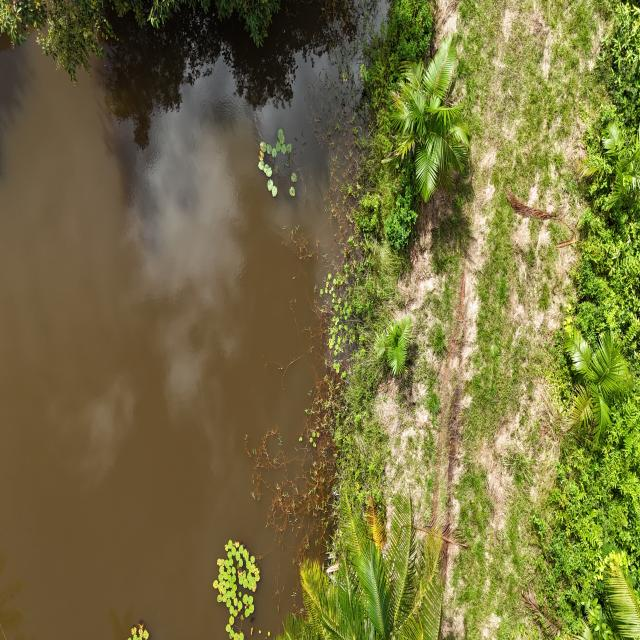vegetation: (382, 31, 471, 203)
